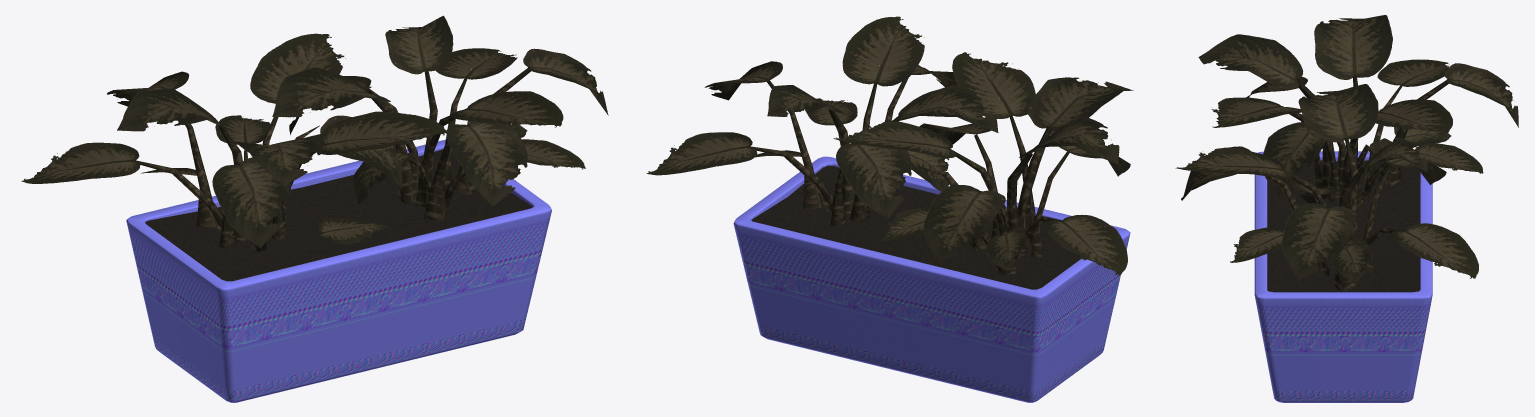
The model's file is SM_PlantE.fbx.
3 views of the same model, side by side, from view 1: azimuth 30°, elevation 25°; view 2: azimuth 150°, elevation 25°; view 3: azimuth 270°, elevation 25° (orthographic). The views are drawn at different scales.
Visible parts, largest first — view 1: SM_PlantE; view 2: SM_PlantE; view 3: SM_PlantE.
Part boxes in pixels (x1,y1,x2,y2): SM_PlantE: [21, 15, 608, 402]; SM_PlantE: [646, 16, 1133, 402]; SM_PlantE: [1175, 15, 1518, 402].
Bounding box in the file's own units: 95.52 × 48.58 × 62.93.
Materials: 2 (2 with a texture image).
